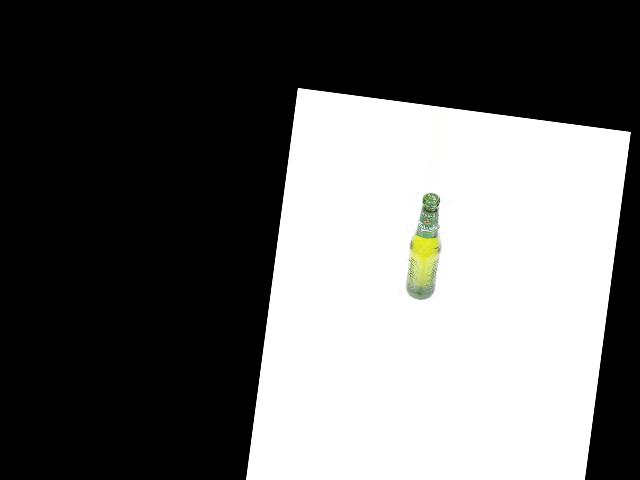beer: (402, 190, 448, 301)
